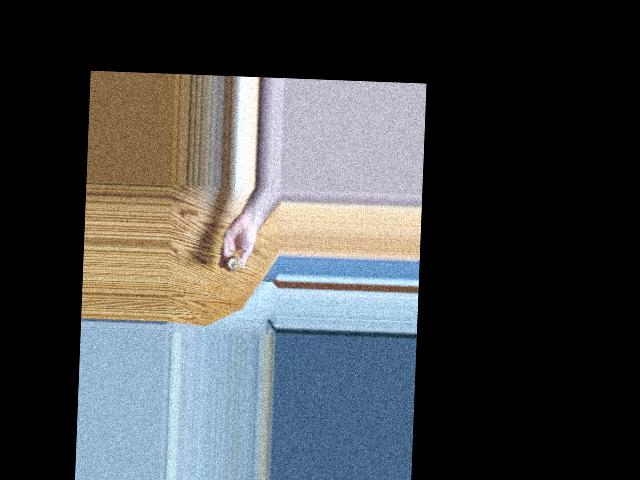sweet_potato: (226, 255, 243, 277)
